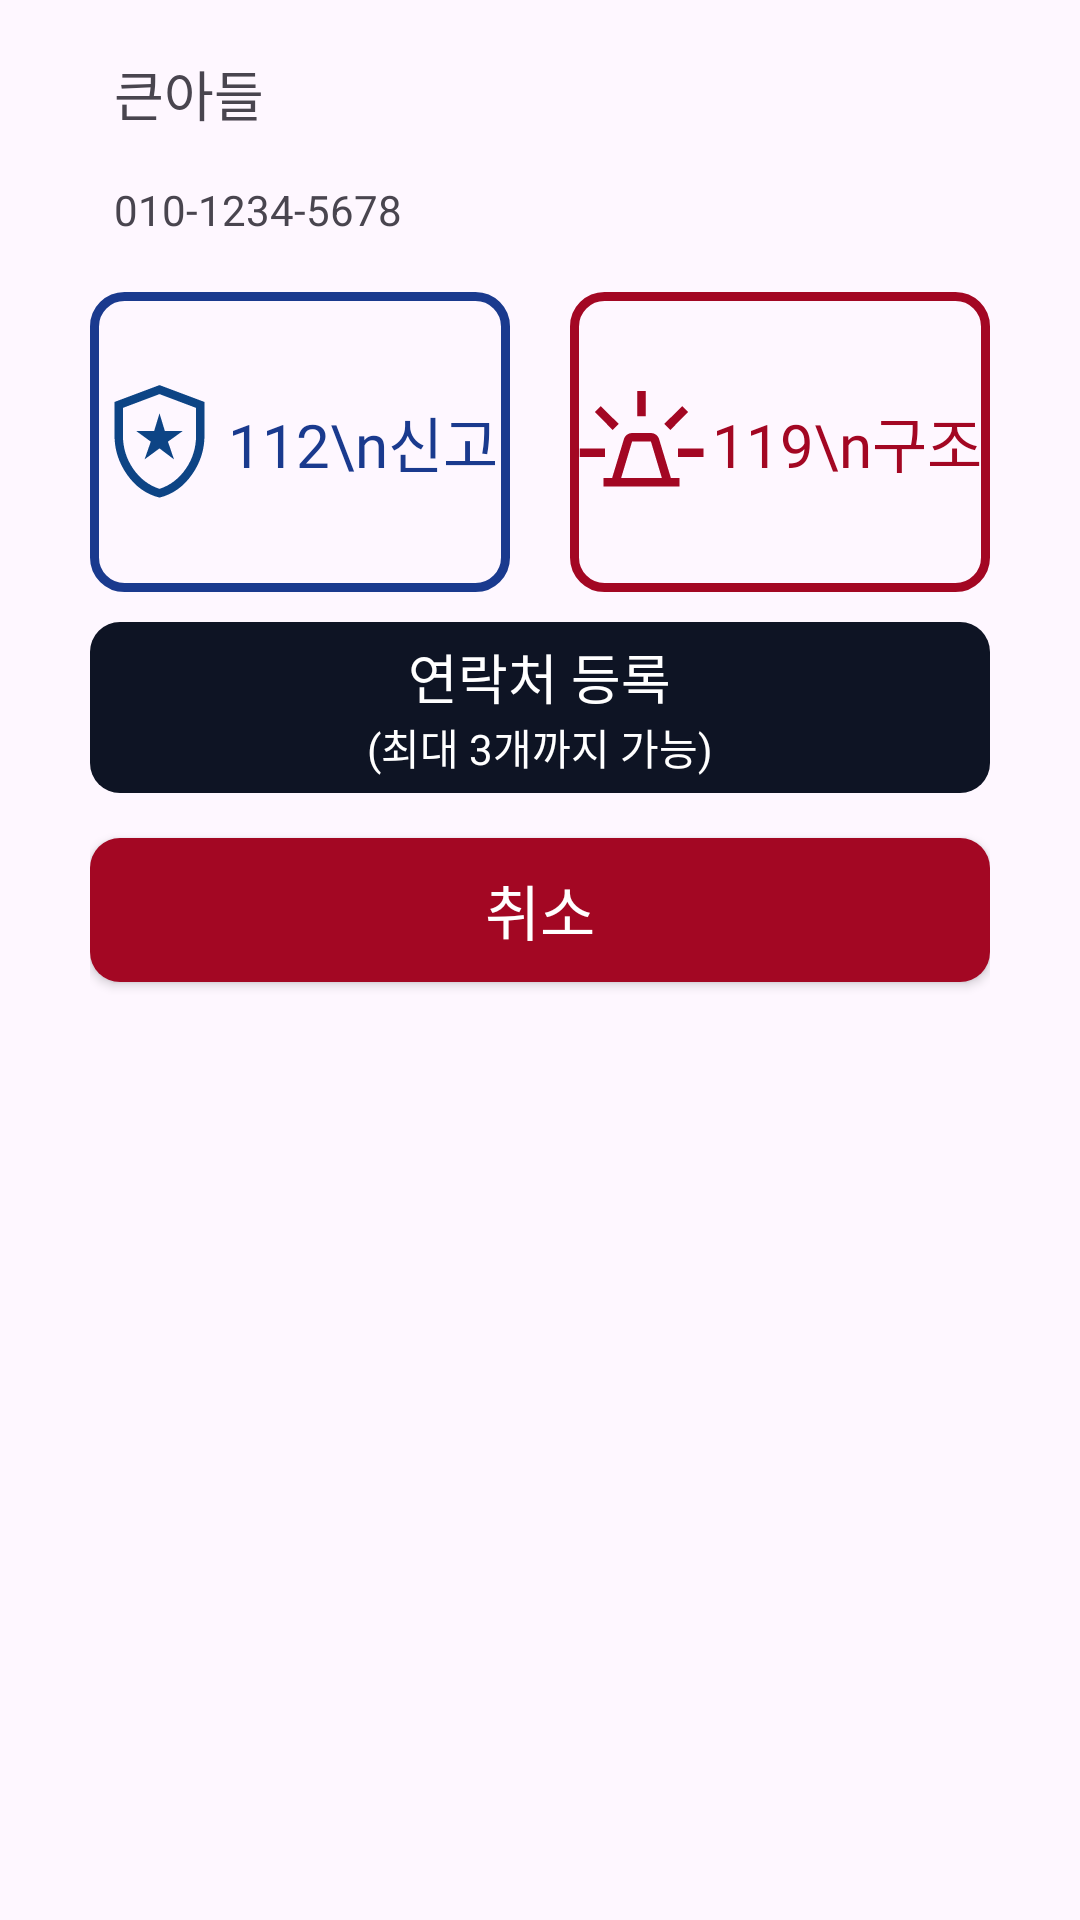

Locate icon controls on the screen. Image size 1080 x 1920, boxes as (left=x1, top=y1, right=x2, bottom=y2).
modal emergency: (left=595, top=391, right=704, bottom=487)
modal police: (left=114, top=385, right=205, bottom=498)
